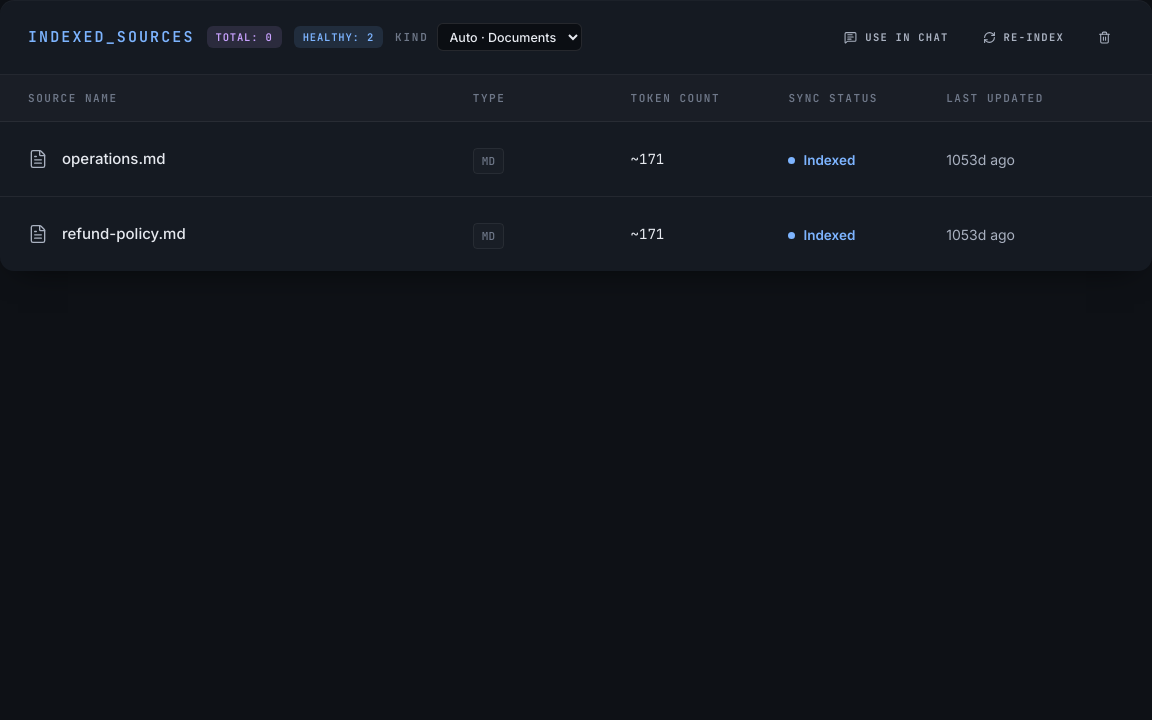
source dialog › opens from a source name with its metadata
Click the button with aria-label "View operations.md" at [97, 159], box x1=28 y1=148 x2=166 y2=170
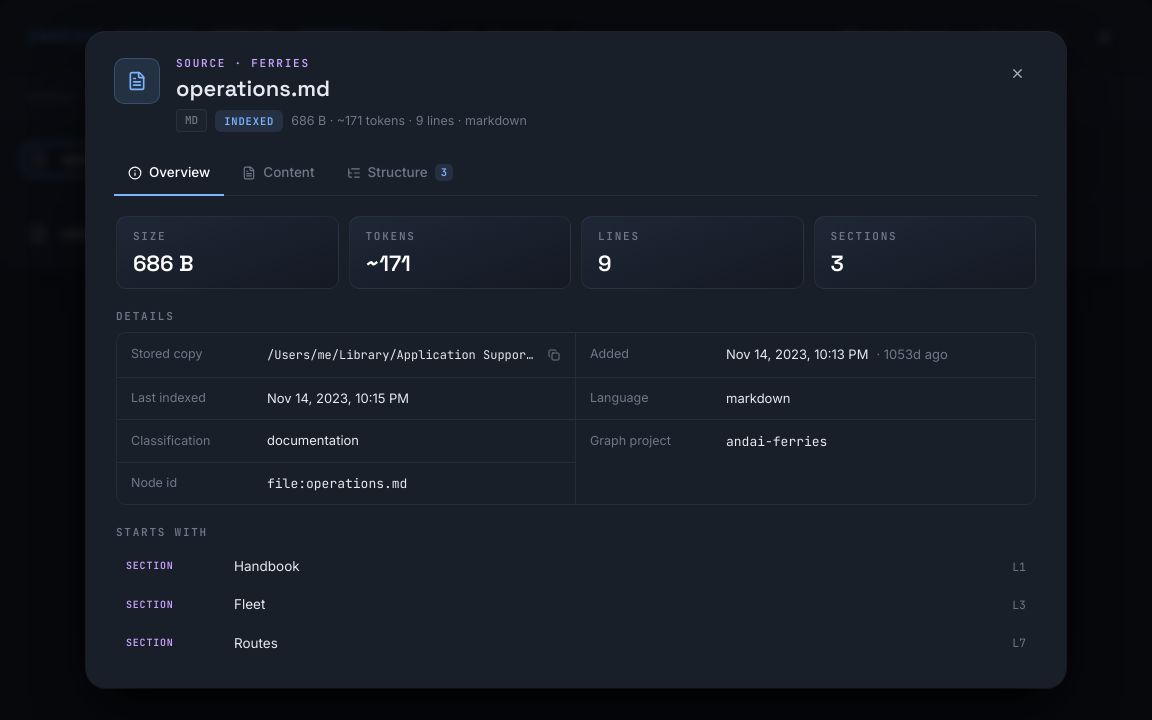
Expected: the text "kb/ferries/docs/operations.md" is shown, x1=267 y1=347 x2=865 y2=363
Expected: the text "andai-ferries" is shown, x1=726 y1=432 x2=827 y2=451
Expected: the text "documentation" is shown, x1=267 y1=432 x2=359 y2=448
